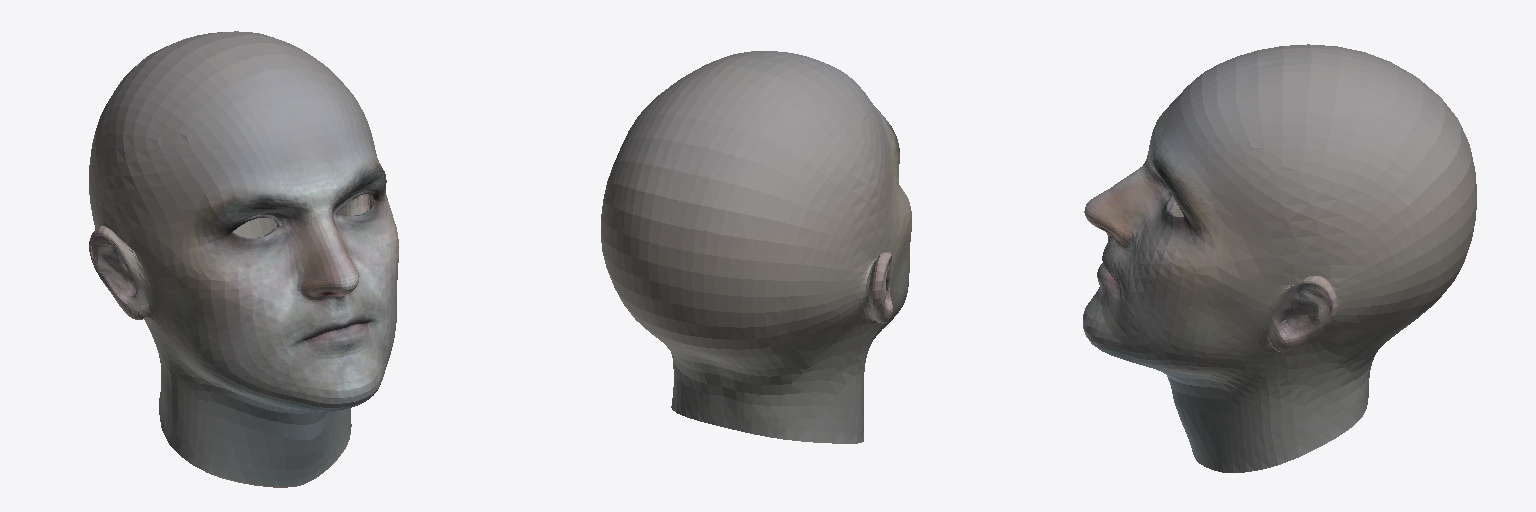
3 renders of one model, left to right at view 1: azimuth 30°, elevation 25°; view 2: azimuth 150°, elevation 25°; view 3: azimuth 270°, elevation 25°, orthographic.
Parts seen in each view (by area): view 1: FaceGen; view 2: FaceGen; view 3: FaceGen.
Boxes of the visible parts, box(x1,y1,x2,y2) form: FaceGen: box(89, 31, 398, 487); FaceGen: box(601, 51, 911, 443); FaceGen: box(1083, 44, 1476, 472).
Bounding box in the file's own units: 207 × 279 × 251.
Materials: 1 (1 with a texture image).